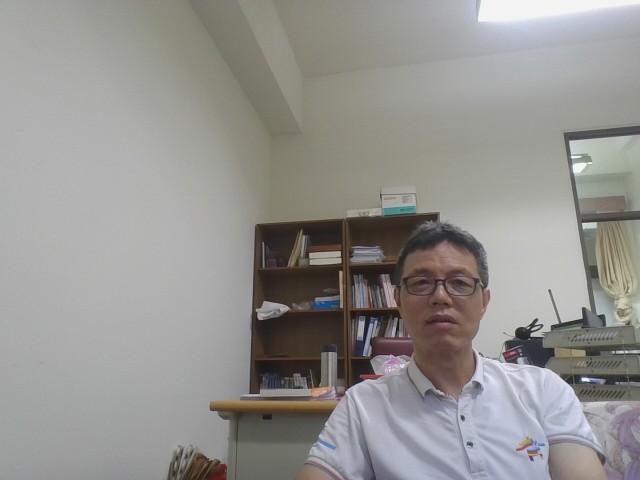No_Helmet: (389, 218, 494, 375)
person: (254, 199, 634, 480)
